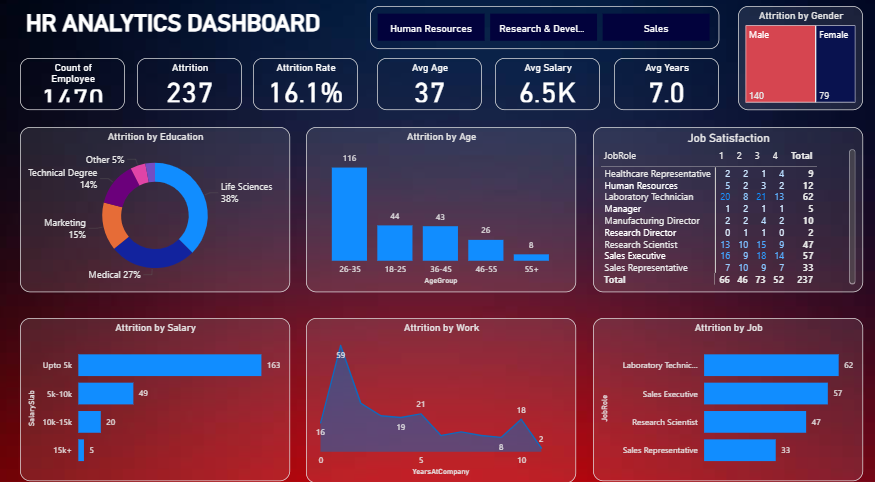

Layout of this report page (visuals, bound fields, positions):
{"tool":"powerbi","page":{"name":"Page 1","canvas":[1280,720],"ordinal":0},"visuals":[{"type":"card","title":"Count of Employee","fields":{"Values":["CountNonNull(HR_Analytics.EmpID)"]},"box":[36,92.2,151.2,74.9],"z":0},{"type":"card","title":"Attrition","fields":{"Values":["Sum(HR_Analytics.AttritionCount)"]},"box":[204.5,92.2,151.2,74.9],"z":1000},{"type":"card","title":"Attrition Rate","fields":{"Values":["HR_Analytics.AttritionRate"]},"box":[371.5,92.2,151.2,74.9],"z":2000},{"type":"card","title":"Avg Age","fields":{"Values":["Avg(HR_Analytics.Age)"]},"box":[550.1,92.2,151.2,74.9],"z":3000},{"type":"card","title":"Avg Salary","fields":{"Values":["Avg(HR_Analytics.MonthlyIncome)"]},"box":[720,92.2,151.2,74.9],"z":4000},{"type":"card","title":"Avg Years","fields":{"Values":["Avg(HR_Analytics.YearsAtCompany)"]},"box":[891.4,92.2,151.2,74.9],"z":5000},{"type":"donutChart","title":"Attrition by Education","fields":{"Category":["HR_Analytics.EducationField"],"Y":["Sum(HR_Analytics.AttritionCount)"]},"box":[36,191.5,388.8,237.6],"z":6000},{"type":"clusteredColumnChart","title":"Attrition by Age","fields":{"Y":["Sum(HR_Analytics.AttritionCount)"],"Category":["HR_Analytics.AgeGroup"]},"box":[447.8,191.5,388.8,237.6],"z":7000},{"type":"pivotTable","title":"Job Satisfaction","fields":{"Rows":["HR_Analytics.JobRole"],"Columns":["HR_Analytics.JobSatisfaction"],"Values":["Sum(HR_Analytics.AttritionCount)"]},"box":[861.1,191.5,388.8,237.6],"z":8000},{"type":"clusteredBarChart","title":"Attrition by Salary","fields":{"Category":["HR_Analytics.SalarySlab"],"Y":["Sum(HR_Analytics.AttritionCount)"]},"box":[36,466.6,388.8,234.7],"z":9000},{"type":"clusteredBarChart","title":"Attrition by Job","fields":{"Y":["Sum(HR_Analytics.AttritionCount)"],"Category":["HR_Analytics.JobRole"]},"box":[861.1,466.6,388.8,234.7],"z":10000},{"type":"areaChart","title":"Attrition by Work","fields":{"Category":["HR_Analytics.YearsAtCompany"],"Y":["Sum(HR_Analytics.AttritionCount)"]},"box":[447.8,466.6,388.8,237.6],"z":11000},{"type":"treemap","title":"Attrition by Gender","fields":{"Group":["HR_Analytics.Gender"],"Values":["Sum(HR_Analytics.AttritionCount)"]},"box":[1069.9,17.3,180,149.8],"z":12000},{"type":"advancedSlicerVisual","fields":{"Values":["HR_Analytics.Department"]},"box":[540,17.3,502.6,61.9],"z":13000},{"type":"textbox","box":[36,17.3,440.6,51.8],"z":14000}]}

Visuals, with their boxes in screenshot pixels (x1, y1, x2, y2), scaled from the page's 1280x720 canvas onto the 875x482 screenshot:
"Count of Employee" card: bbox=[25, 62, 128, 112]
"Attrition" card: bbox=[140, 62, 243, 112]
"Attrition Rate" card: bbox=[254, 62, 357, 112]
"Avg Age" card: bbox=[376, 62, 479, 112]
"Avg Salary" card: bbox=[492, 62, 596, 112]
"Avg Years" card: bbox=[609, 62, 713, 112]
"Attrition by Education" donutChart: bbox=[25, 128, 290, 287]
"Attrition by Age" clusteredColumnChart: bbox=[306, 128, 572, 287]
"Job Satisfaction" pivotTable: bbox=[589, 128, 854, 287]
"Attrition by Salary" clusteredBarChart: bbox=[25, 312, 290, 469]
"Attrition by Job" clusteredBarChart: bbox=[589, 312, 854, 469]
"Attrition by Work" areaChart: bbox=[306, 312, 572, 471]
"Attrition by Gender" treemap: bbox=[731, 12, 854, 112]
advancedSlicerVisual - HR_Analytics.Department: bbox=[369, 12, 713, 53]
textbox: bbox=[25, 12, 326, 46]
